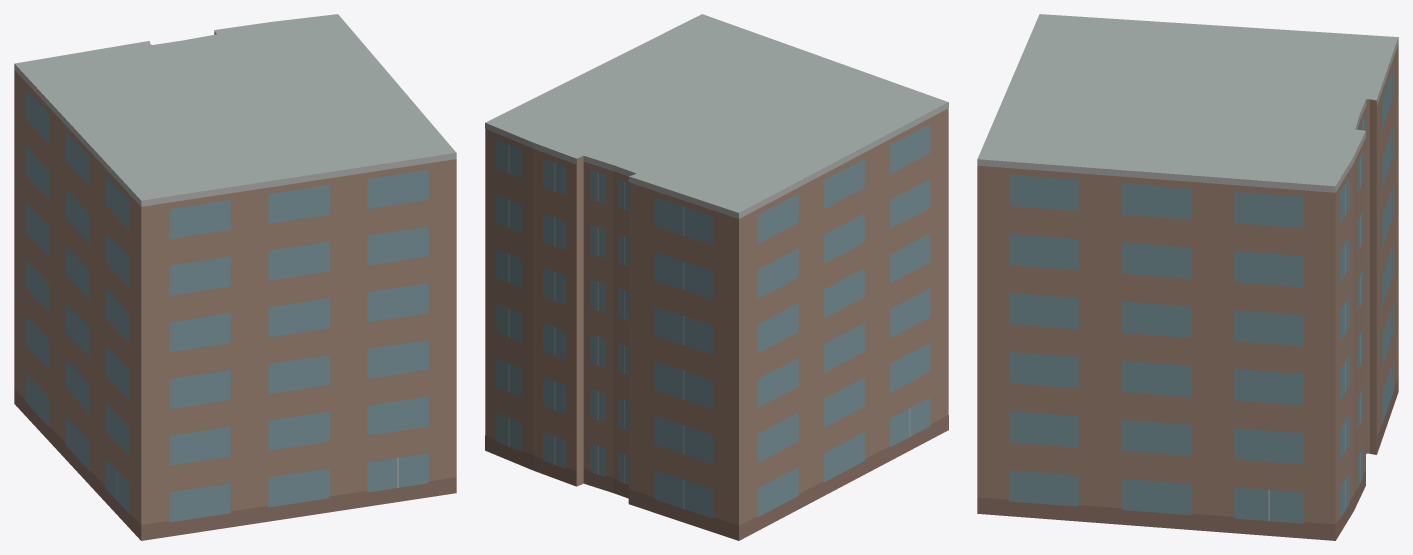
The model's file is survey-upis-32974951.glb.
3 views of the same model, side by side, from view 1: azimuth 30°, elevation 25°; view 2: azimuth 150°, elevation 25°; view 3: azimuth 270°, elevation 25° (orthographic). The views are drawn at different scales.
Parts seen in each view (by area): view 1: survey-upis-32974951.tmp; view 2: survey-upis-32974951.tmp; view 3: survey-upis-32974951.tmp.
Part boxes in pixels (x1,y1,x2,y2): survey-upis-32974951.tmp: (14,14,456,540); survey-upis-32974951.tmp: (485,14,948,540); survey-upis-32974951.tmp: (977,14,1398,540).
Bounding box in the file's own units: 13.98 × 13.4 × 14.44.
